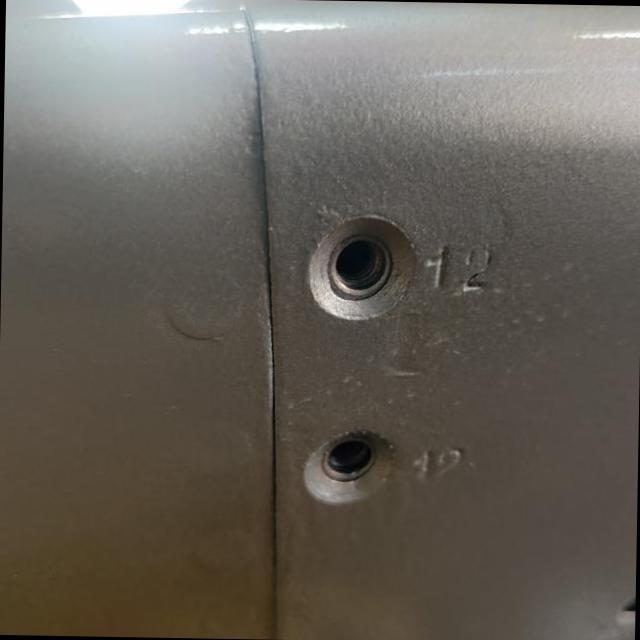Fastener Damage: (257, 154, 466, 368), (254, 385, 453, 567)
